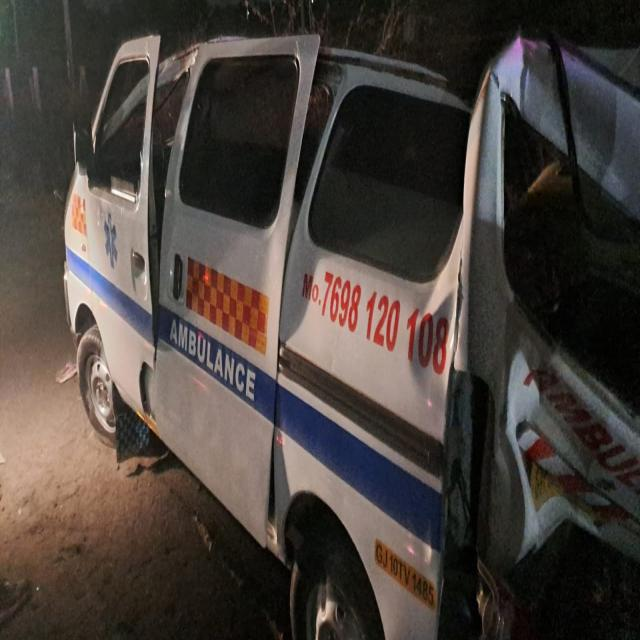accident: (64, 33, 640, 638)
